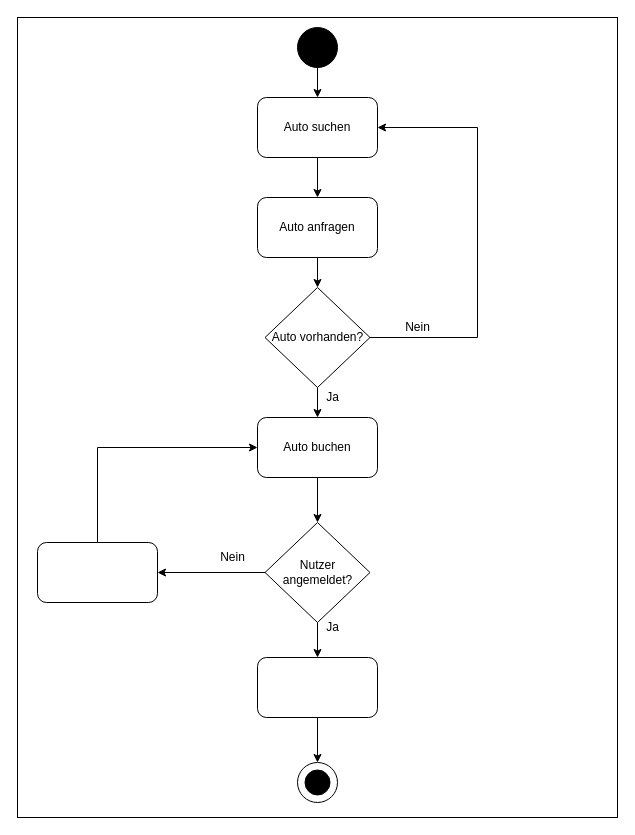
Some shapes in this 635 by 835 pixel diagram are drawn without their labels. The shapes that lost their labels are listed below. From the top down, each one's centre as x and y in pixels, then its label:
At point 97,572: "Anmelden".
At point 317,687: "Buchung abgeschlossen".
